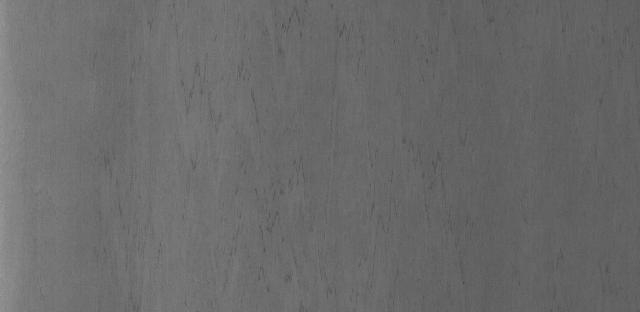silk_spot: (154, 23, 490, 270)
